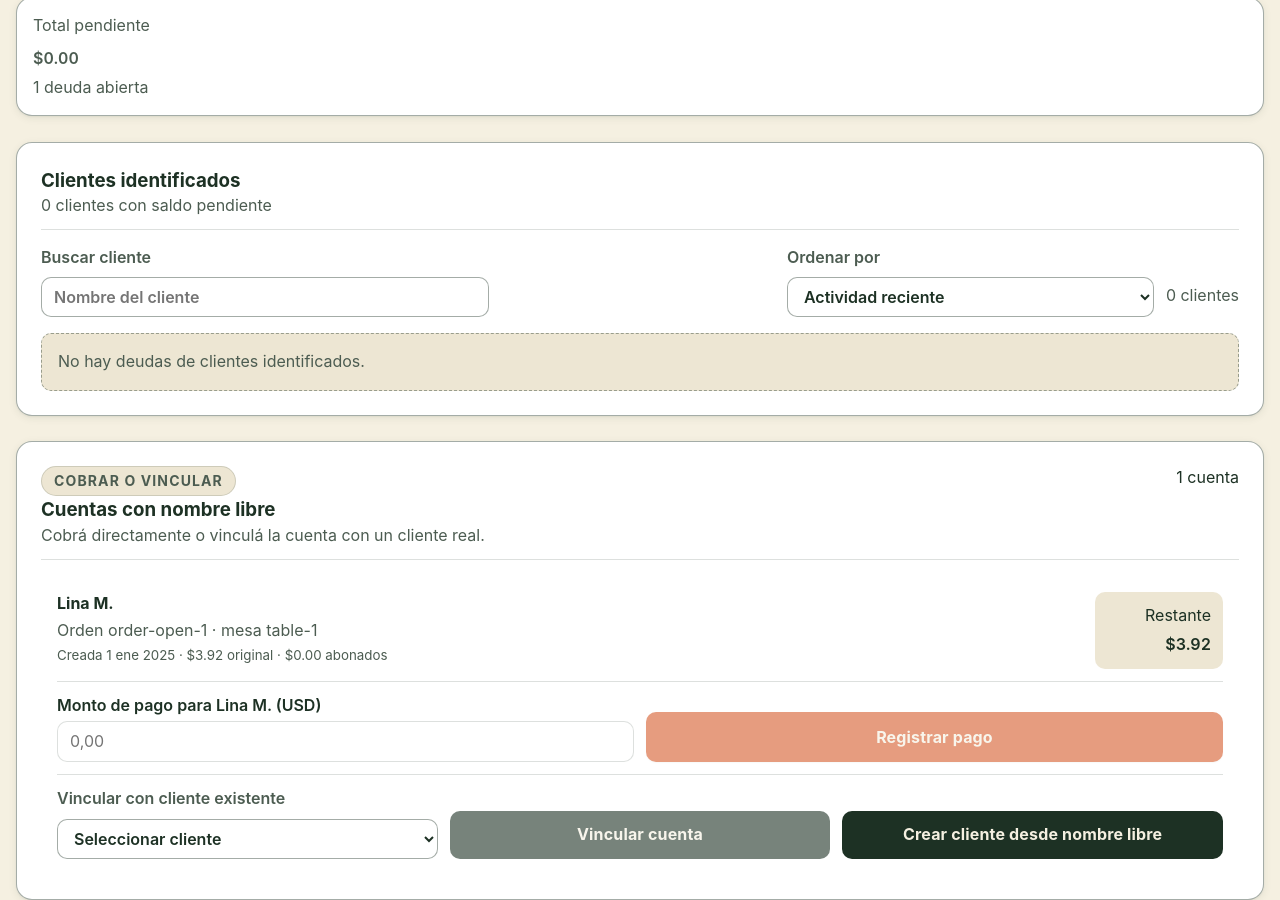
it: PendingDebtsContainer › creates a customer from a free-name pending account and links the account
(page scrolled)
Expected: the element named "Cuenta pendiente de Lina M." is shown, x1=41 y1=576 x2=1239 y2=875
Click the button "Crear cliente desde nombre libre".
click(1033, 835)  # box x1=842 y1=811 x2=1223 y2=859
(page scrolled)
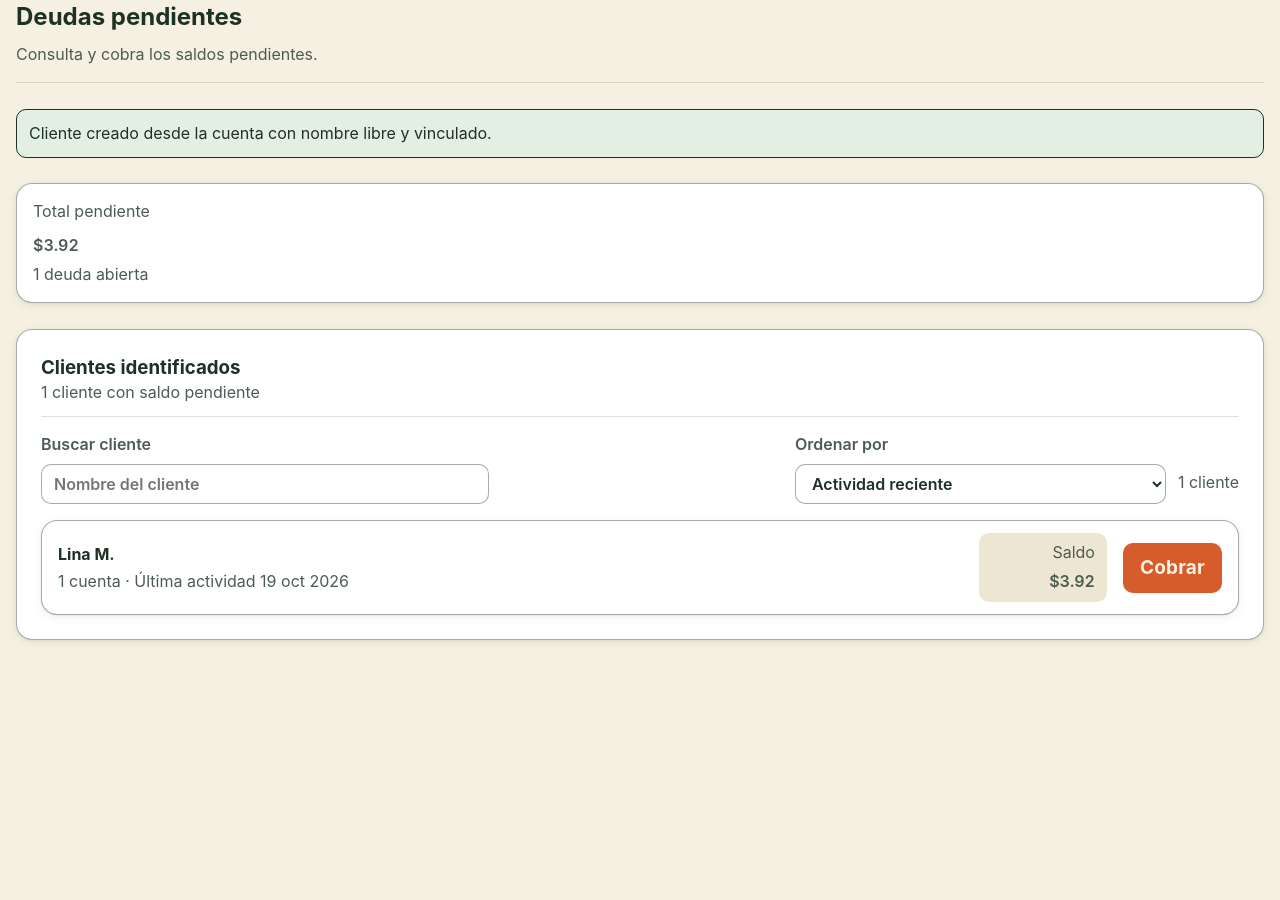
Expected: the message shows "Cliente creado", x1=29 y1=123 x2=492 y2=143
